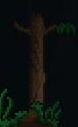tree: (0, 1, 78, 127)
